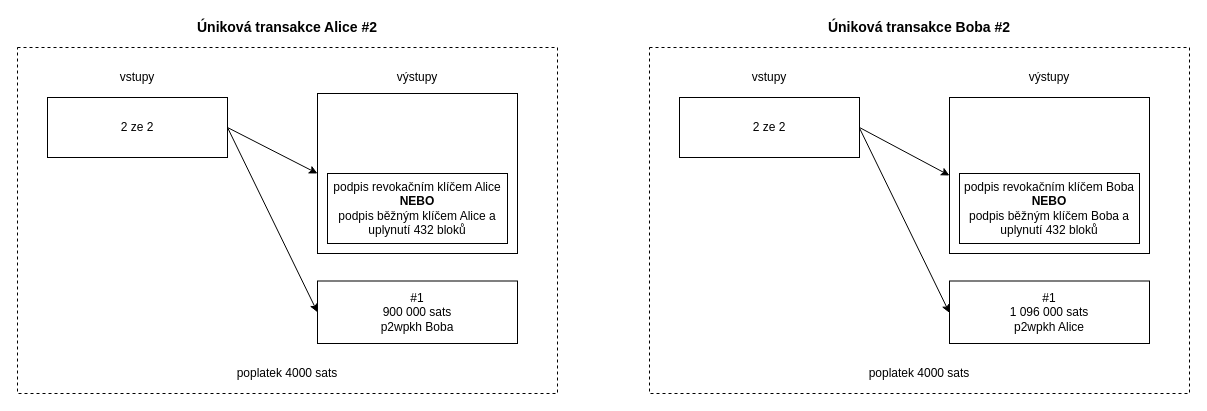
Image size: 1207x411. Some labels were removed from this diagram. Here are the shapes that lost their labels. From the top down, the box of each, then its label:
(316, 92, 518, 254): #0 1 096 000 sats script
(948, 96, 1150, 254): #0 900 000 sats script
